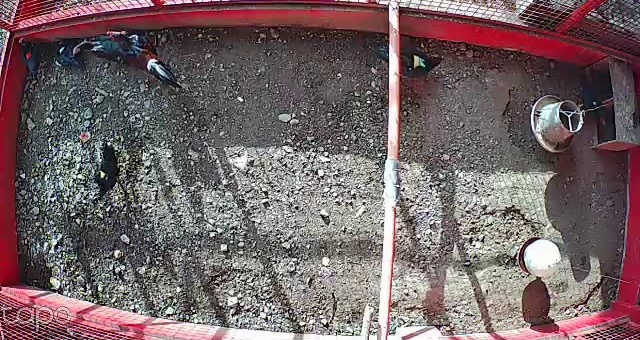Chicken: (374, 42, 448, 84), (91, 138, 127, 202), (13, 32, 48, 90), (47, 32, 86, 71)
Rooster: (107, 29, 175, 92)
Saddle_Color_Red: (26, 51, 32, 61)
Saddle_Color_White: (59, 46, 65, 53)
Saddle_Color_Yellow: (100, 171, 109, 179)
Saddle_Color_YellowGreen: (413, 57, 430, 69)
